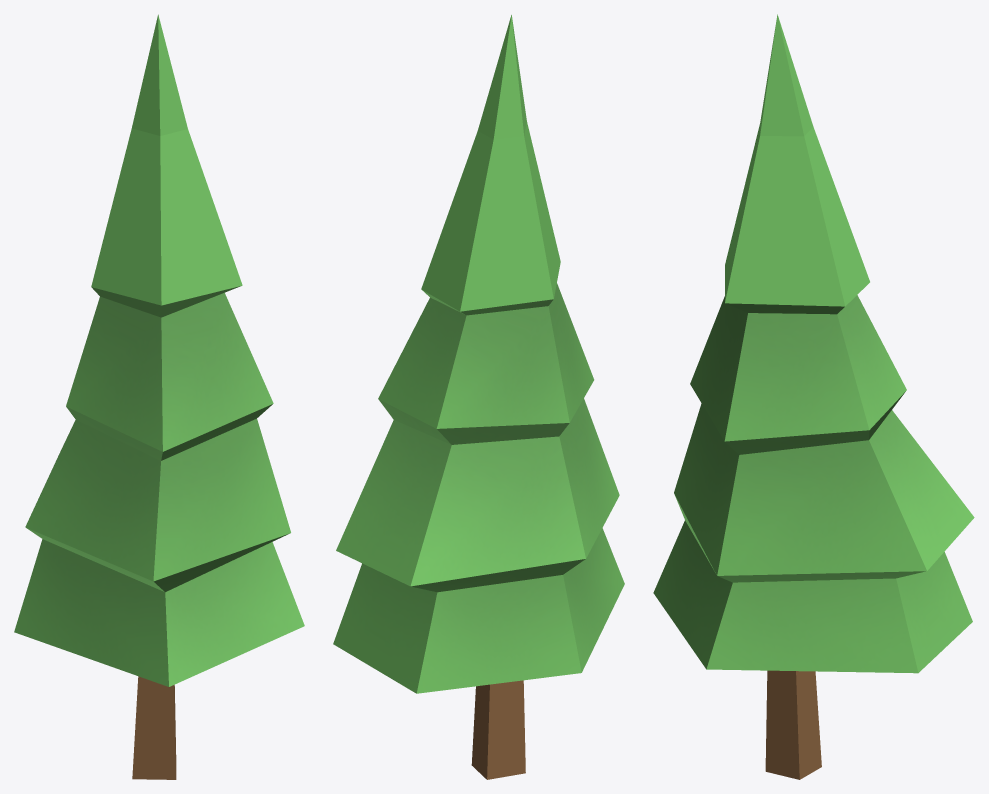
Rendered from Fir_Tree_m_BT_09.fbx.
3 views of the same model, side by side, from view 1: azimuth 30°, elevation 25°; view 2: azimuth 150°, elevation 25°; view 3: azimuth 270°, elevation 25° (orthographic).
Visible parts, largest first — view 1: Fir_Tree_m_BT_09; view 2: Fir_Tree_m_BT_09; view 3: Fir_Tree_m_BT_09.
Part boxes in pixels (bbox=[...]): Fir_Tree_m_BT_09: bbox=[14, 14, 304, 779]; Fir_Tree_m_BT_09: bbox=[333, 15, 624, 779]; Fir_Tree_m_BT_09: bbox=[653, 14, 974, 779].
Bounding box in the file's own units: 137 × 459 × 178.
